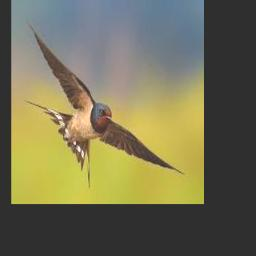Swallow: (25, 20, 184, 187)
